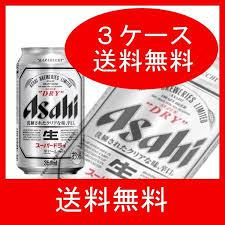beer: (16, 46, 87, 175)
